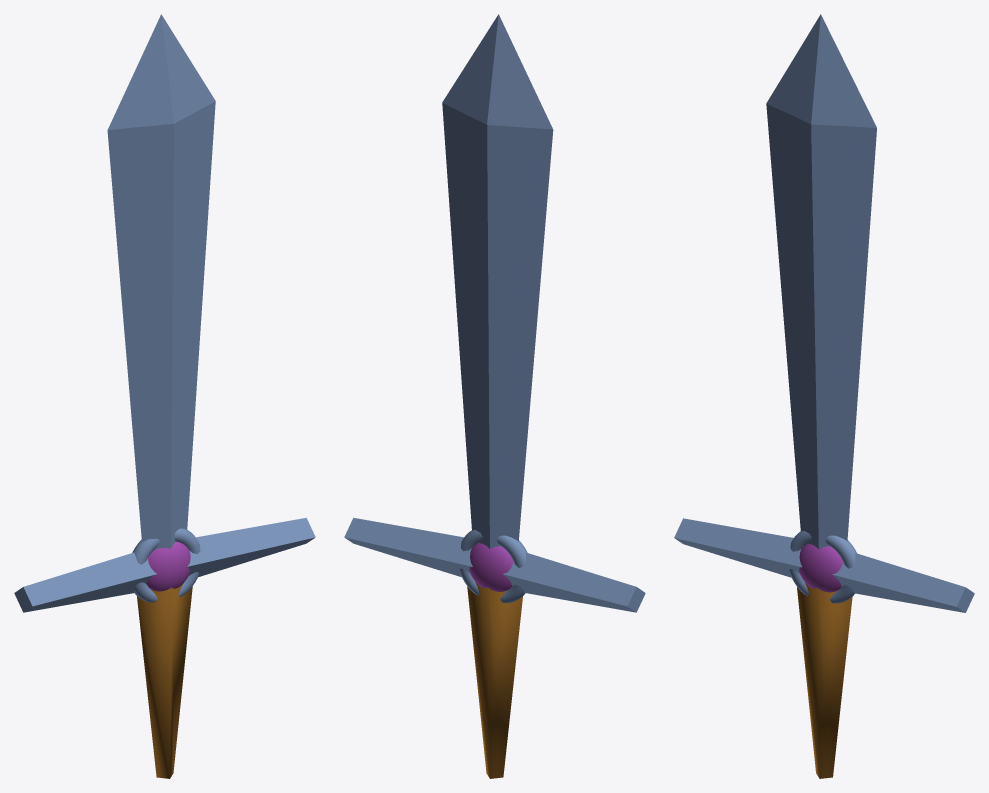
File: Sword.fbx
The picture shows the model from 3 angles, left to right: view 1: azimuth 30°, elevation 25°; view 2: azimuth 150°, elevation 25°; view 3: azimuth 330°, elevation 25°; orthographic projection.
Parts seen in each view (by area): view 1: Cube.002, Cube, Cone, Cube.003, Cube.001, Sphere, Torus; view 2: Cube.002, Cube, Cone, Cube.003, Cube.001, Sphere, Torus; view 3: Cube.002, Cube, Cone, Cube.001, Cube.003, Sphere, Torus.
Boxes of the visible parts, x1,y1,x2,y2 form: Cube.002: [107, 101, 215, 549]; Cube: [137, 584, 192, 778]; Cone: [107, 14, 215, 129]; Cube.003: [14, 552, 156, 612]; Cube.001: [187, 517, 315, 577]; Sphere: [146, 541, 190, 591]; Torus: [132, 528, 200, 602]; Cube.002: [442, 103, 553, 548]; Cube: [467, 582, 522, 778]; Cone: [442, 14, 552, 129]; Cube.003: [502, 552, 645, 612]; Cube.001: [344, 517, 472, 577]; Sphere: [469, 543, 513, 591]; Torus: [459, 530, 527, 602]; Cube.002: [766, 103, 876, 549]; Cube: [797, 583, 852, 778]; Cone: [766, 14, 876, 127]; Cube.001: [832, 553, 974, 612]; Cube.003: [674, 518, 802, 577]; Sphere: [799, 543, 842, 592]; Torus: [789, 531, 857, 603].
Size of the model in its own units: 3304 by 8495 by 468.
